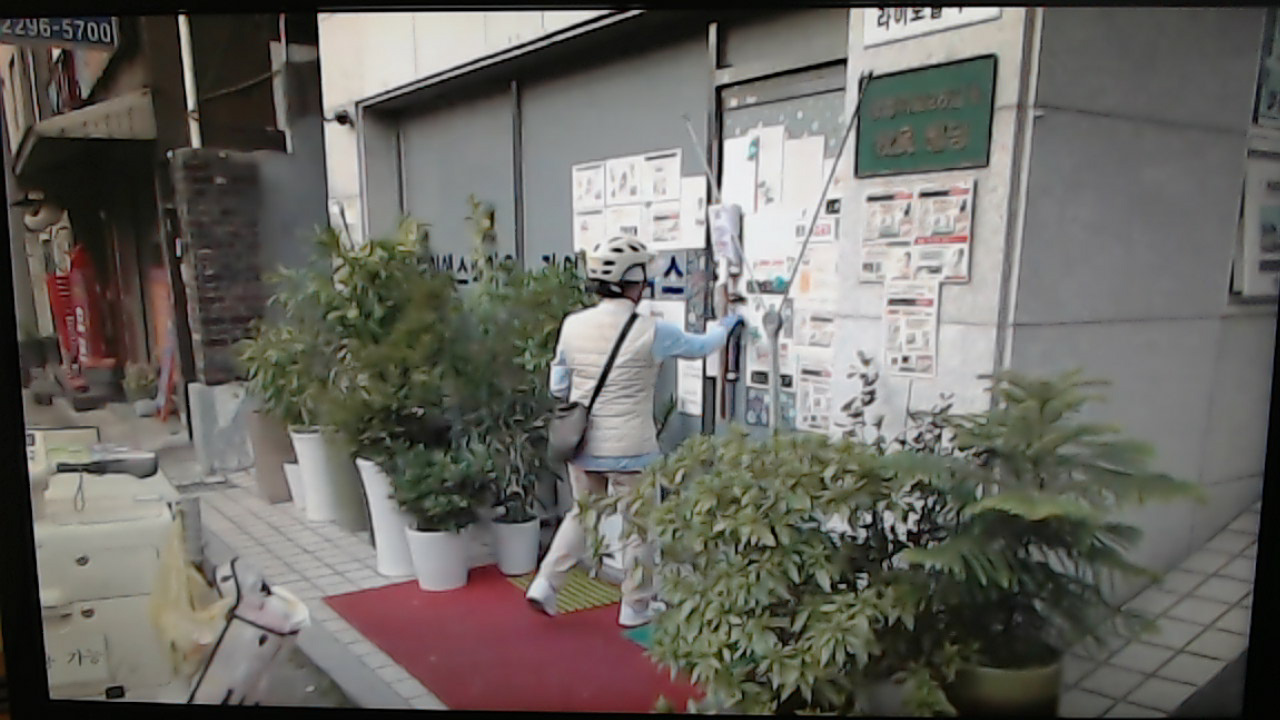Yakurut: (524, 218, 746, 657)
